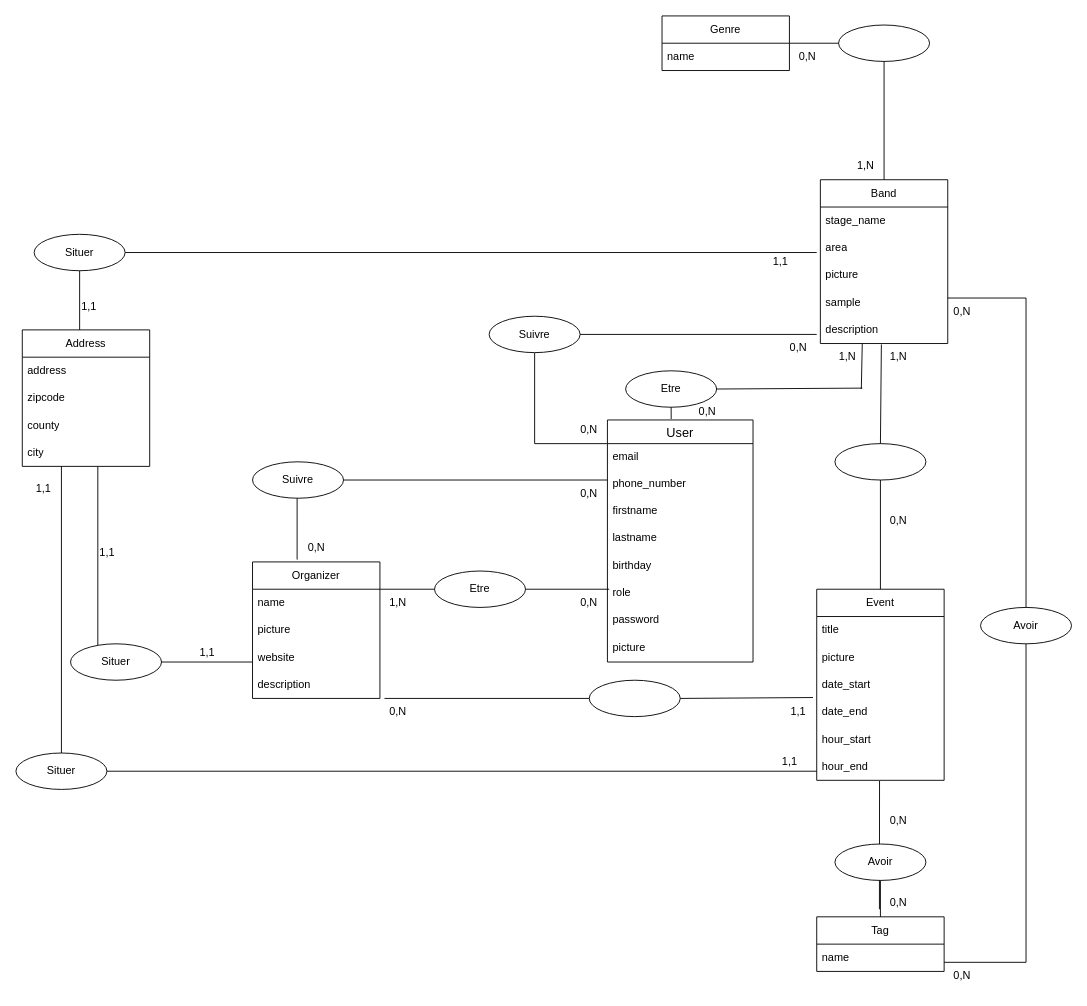
The diagram is 1087 pixels wide and 1006 high, and some of its shapes have lost their labels. Here are the shapes that lost their labels. From the top down, the centre of each, then its label:
At point (884, 42): "Appartenir".
At point (880, 461): "Participer".
At point (634, 698): "Créer".
